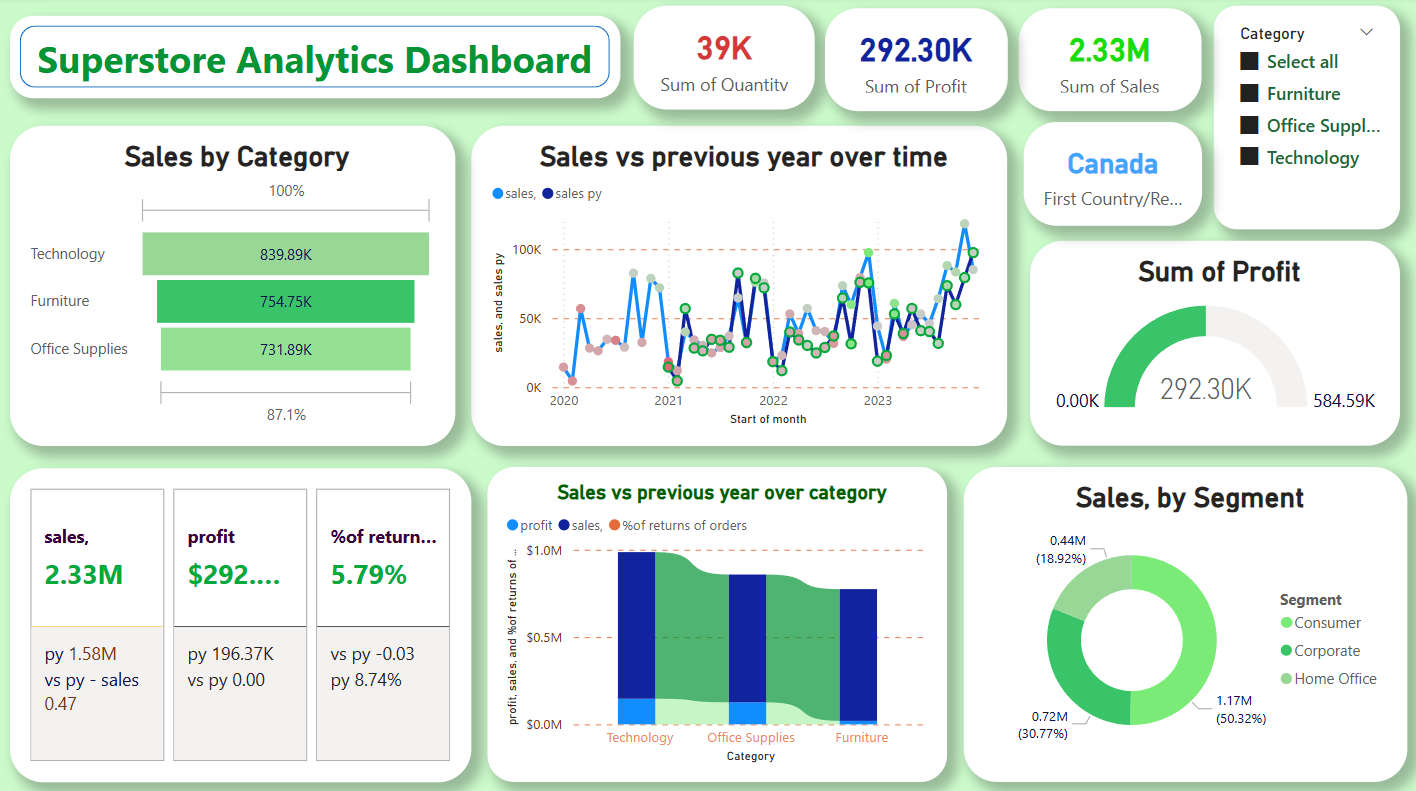

The dashboard page shown, as its layout file describes it:
{"tool":"powerbi","page":{"name":"Page 1","canvas":[1280,720],"ordinal":0},"visuals":[{"type":"cardVisual","fields":{"Data":["key measures.sales,","key measures.profit","key measures.%of returns of orders"]},"box":[8.6,420.7,417,287.4],"z":0},{"type":"lineChart","title":"sales vs previous year over time","fields":{"Y":["key measures.sales,","key measures.sales py"],"Category":["Date Table. Start of month "]},"box":[448.8,117.4,496.5,286.1],"z":1000},{"type":"ribbonChart","title":"sales vs previous year over category","fields":{"Category":["Orders.Category"],"Y":["key measures.profit","key measures.sales,","key measures.%of returns of orders"]},"box":[436.6,421.9,415.8,287.4],"z":2000},{"type":"donutChart","fields":{"Category":["Orders.Segment"],"Y":["key measures.sales,"]},"box":[860.9,421.9,414.5,287.4],"z":3000},{"type":"shape","box":[8.6,17.1,550.3,74.6],"z":4000},{"type":"funnel","fields":{"Category":["Orders.Category"],"Y":["Sum(Orders.Sales)"]},"box":[8.6,116.2,426.8,286.1],"z":5000},{"type":"slicer","fields":{"Values":["Orders.Category"]},"box":[1089.5,9.8,173.6,176.1],"z":6000},{"type":"gauge","fields":{"Y":["Sum(Orders.Profit)"]},"box":[957.5,217.7,305.7,188.3],"z":7000},{"type":"card","fields":{"Values":["Sum(Orders.Sales)"]},"box":[568.6,8.6,163.9,92.9],"z":8000},{"type":"card","fields":{"Values":["Sum(Orders.Quantity)"]},"box":[911,9.8,163.9,92.9],"z":9000},{"type":"card","fields":{"Values":["Sum(Orders.Profit)"]},"box":[739.8,8.6,163.9,92.9],"z":10000}]}

Visuals, with their boxes in screenshot pixels (x1, y1, x2, y2), scaled from the page's 1280x720 canvas onto the 1416x791 screenshot:
cardVisual - key measures.sales, x key measures.profit: 10,462,471,778
"sales vs previous year over time" lineChart: 496,129,1046,443
"sales vs previous year over category" ribbonChart: 483,464,943,779
donutChart - Orders.Segment x key measures.sales,: 952,464,1411,779
shape: 10,19,618,101
funnel - Orders.Category x Sum(Orders.Sales): 10,128,482,442
slicer - Orders.Category: 1205,11,1397,204
gauge - Sum(Orders.Profit): 1059,239,1397,446
card - Sum(Orders.Sales): 629,9,810,112
card - Sum(Orders.Quantity): 1008,11,1189,113
card - Sum(Orders.Profit): 818,9,1000,112
